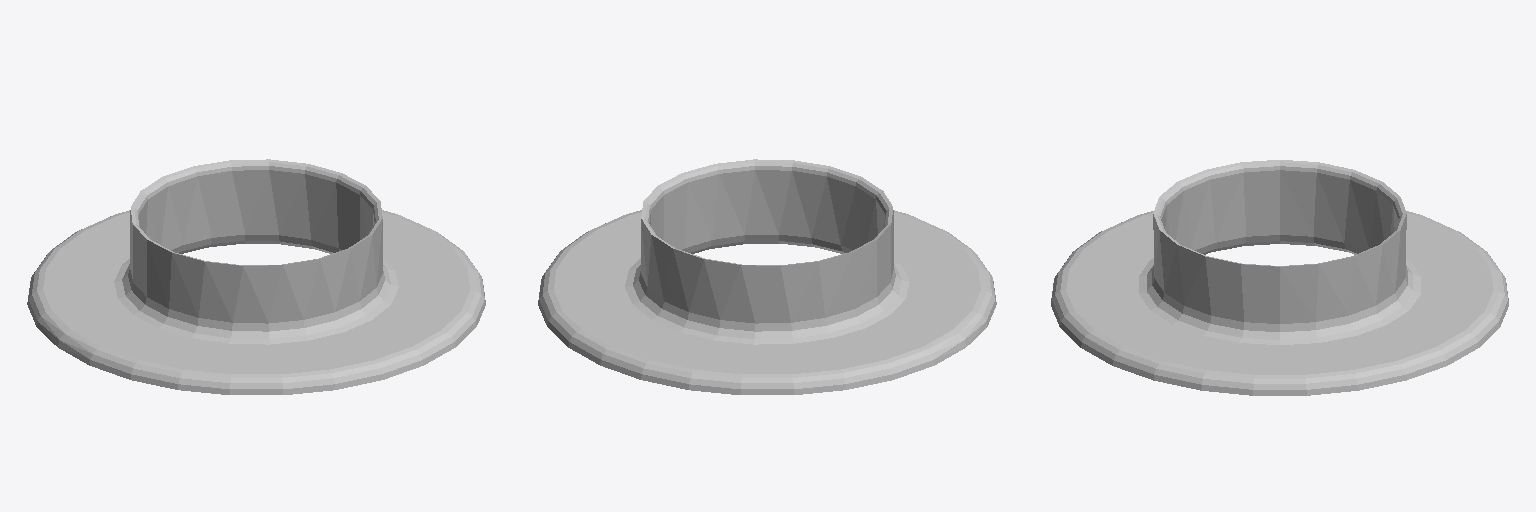
File: Шайба опоры пружины клапана.obj
The picture shows the model from 3 angles: view 1: azimuth 30°, elevation 25°; view 2: azimuth 150°, elevation 25°; view 3: azimuth 270°, elevation 25°; orthographic projection.
Parts seen in each view (by area): view 1: Шайба_опоры_пружины_клапана; view 2: Шайба_опоры_пружины_клапана; view 3: Шайба_опоры_пружины_клапана.
Part boxes in pixels (x1,y1,x2,y2): Шайба_опоры_пружины_клапана: (27, 159, 485, 394); Шайба_опоры_пружины_клапана: (538, 159, 996, 394); Шайба_опоры_пружины_клапана: (1051, 160, 1508, 395).
Bounding box in the file's own units: 28.9 × 6 × 28.95.